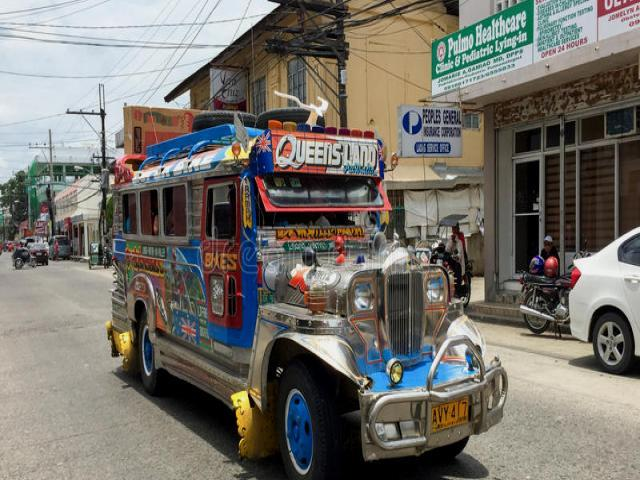jeepney: (103, 117, 514, 480)
